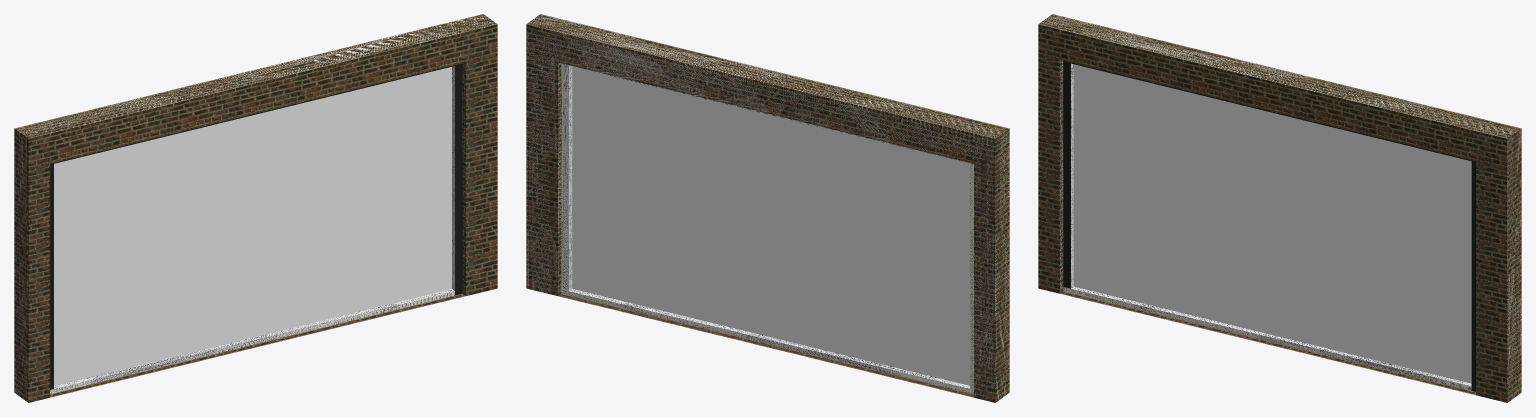
Rendered from window.dae.
3 views of the same model, side by side, from view 1: azimuth 30°, elevation 25°; view 2: azimuth 150°, elevation 25°; view 3: azimuth 330°, elevation 25° (orthographic).
Parts seen in each view (by area): view 1: SketchUp (×4); view 2: SketchUp (×5); view 3: SketchUp (×4).
Part boxes in pixels (box(x1,y1,x2,y2)): SketchUp (×4): box(14, 14, 497, 402); SketchUp (×5): box(526, 14, 1009, 402); SketchUp (×4): box(1038, 14, 1521, 402).
Size of the model in its own units: 274 by 14.36 by 147.
5 materials, 1 textured.
